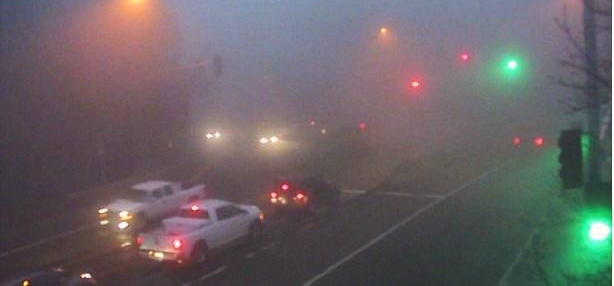car: (130, 198, 266, 268), (97, 179, 206, 236), (268, 170, 342, 216)
